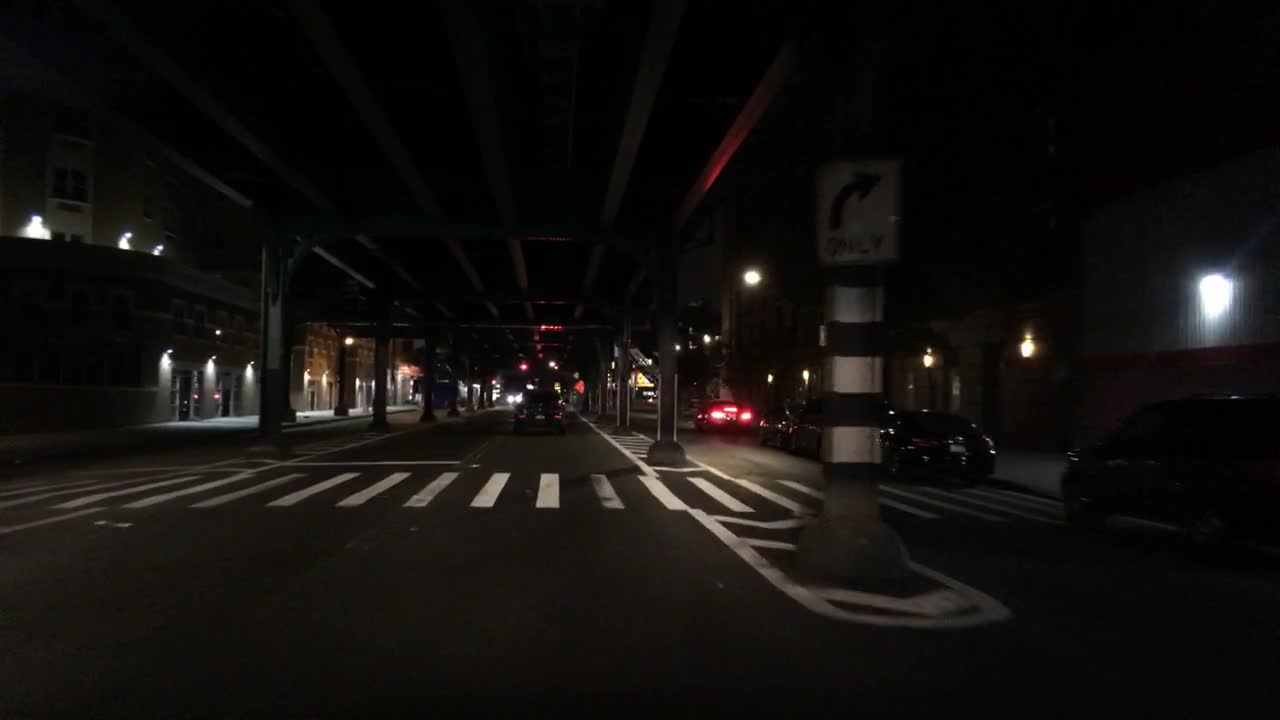car: (1060, 393, 1274, 544), (882, 410, 996, 487), (513, 387, 568, 432), (785, 398, 828, 453), (692, 393, 754, 431), (753, 401, 800, 446), (645, 391, 659, 406), (503, 392, 523, 402)
traffic light: (537, 322, 563, 333), (518, 361, 530, 371), (490, 376, 497, 387)
traffic sign: (817, 160, 894, 258), (571, 378, 587, 393)
